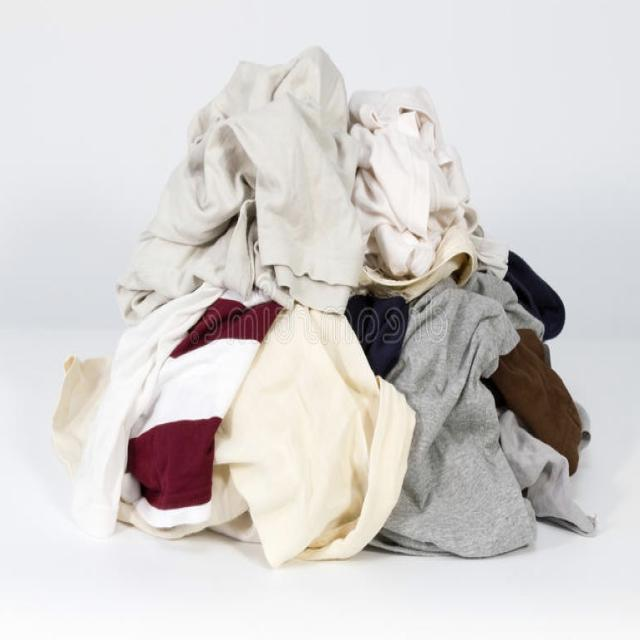clothes: (62, 65, 538, 565)
